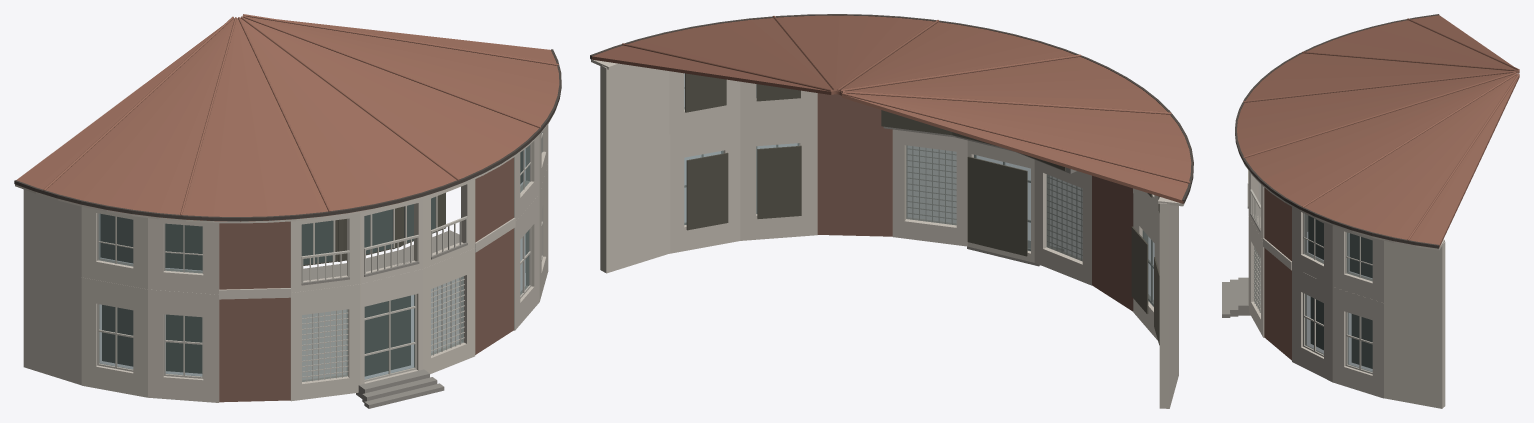
File: full-source.glb
The picture shows the model from 3 angles, left to right: view 1: azimuth 30°, elevation 25°; view 2: azimuth 150°, elevation 25°; view 3: azimuth 270°, elevation 25°; orthographic projection. The views are drawn at different scales.
Visible parts, largest first — view 1: 新华路329弄36号双层圆形住宅庭院立面; view 2: 新华路329弄36号双层圆形住宅庭院立面; view 3: 新华路329弄36号双层圆形住宅庭院立面.
Part boxes in pixels (x1,y1,x2,y2): 新华路329弄36号双层圆形住宅庭院立面: (14, 14, 561, 408); 新华路329弄36号双层圆形住宅庭院立面: (590, 14, 1193, 408); 新华路329弄36号双层圆形住宅庭院立面: (1222, 14, 1519, 408).
Bounding box in the file's own units: 19 × 8.8 × 10.31.
